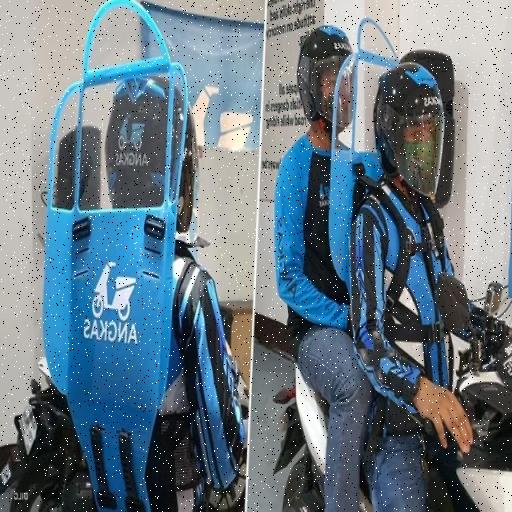Helmet: (105, 77, 198, 231), (374, 64, 444, 196), (298, 26, 351, 125)
Motor: (441, 282, 511, 511), (0, 359, 95, 511)
